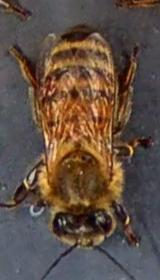varroa_mite: (36, 78, 60, 98)
